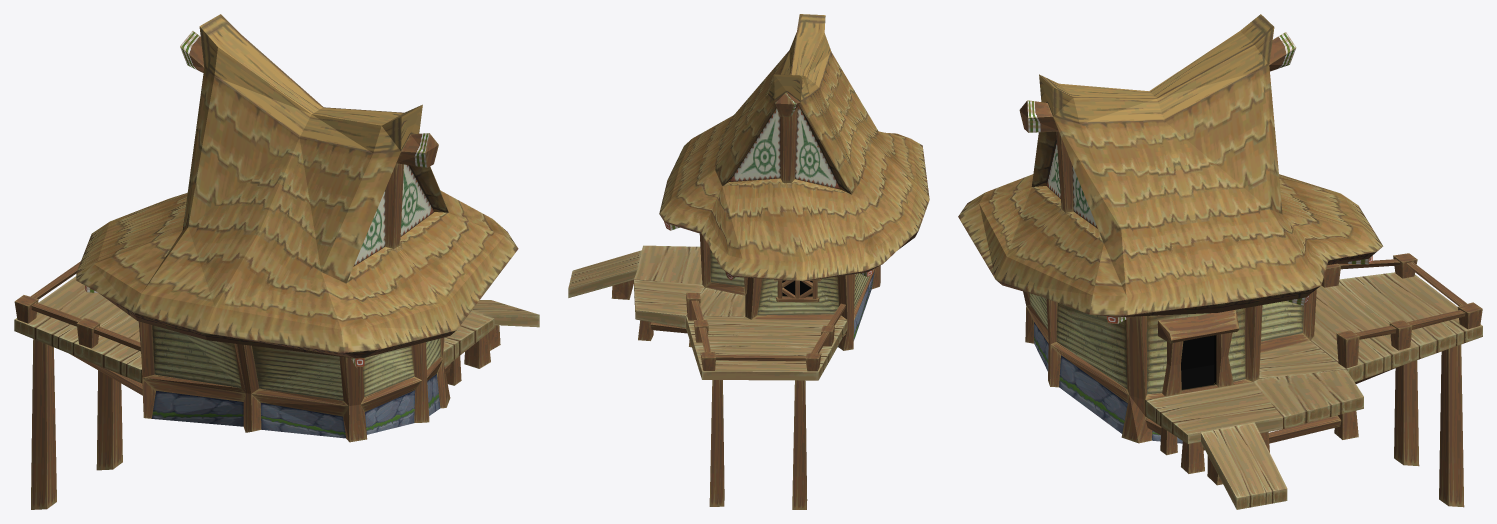
The model's file is Outset Island Link's House.fbx.
3 views of the same model, side by side, from view 1: azimuth 30°, elevation 25°; view 2: azimuth 150°, elevation 25°; view 3: azimuth 270°, elevation 25° (orthographic). The views are drawn at different scales.
Visible parts, largest first — view 1: Island.003; view 2: Island.003; view 3: Island.003.
Part boxes in pixels (bbox=[...]): Island.003: bbox=[14, 14, 539, 509]; Island.003: bbox=[568, 14, 929, 509]; Island.003: bbox=[958, 14, 1482, 509].
Bounding box in the file's own units: 184 × 204 × 200.
